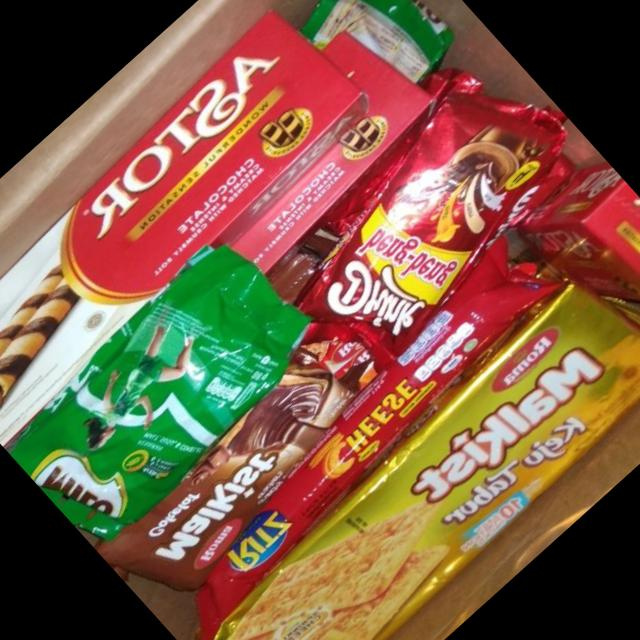KemasanPlastik: (188, 261, 640, 640), (243, 46, 605, 398), (1, 220, 340, 549)
